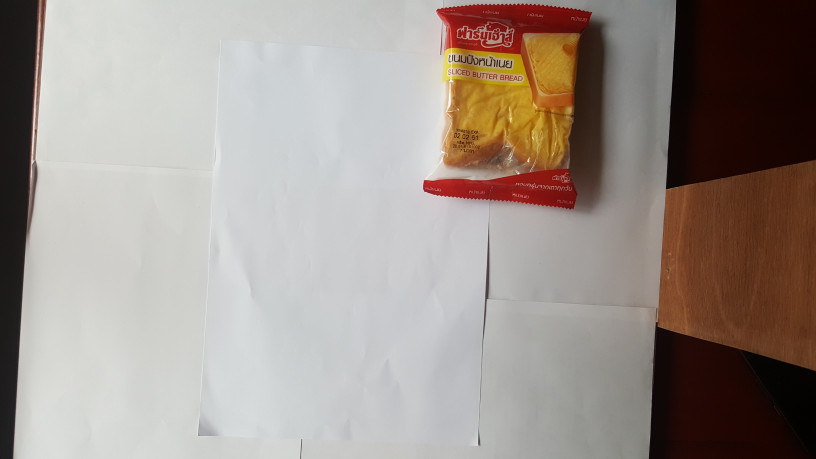farmhouse-bread-butter: (426, 1, 584, 216)
